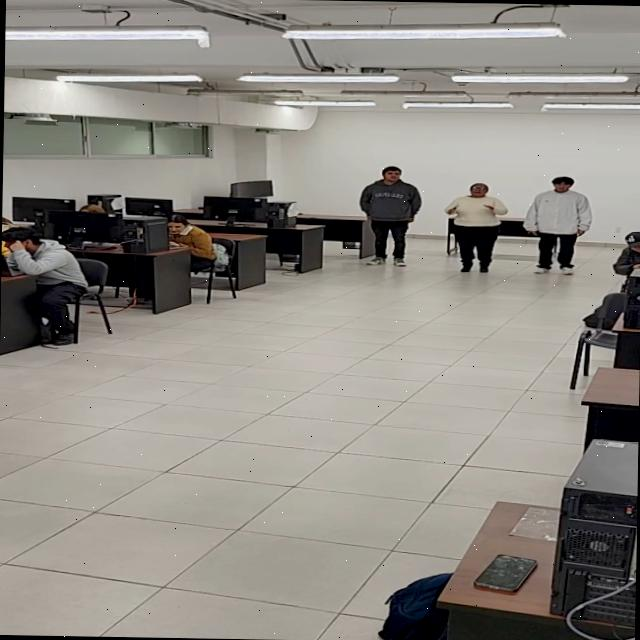Persona: (520, 168, 600, 280), (352, 161, 428, 270), (438, 178, 512, 279)
